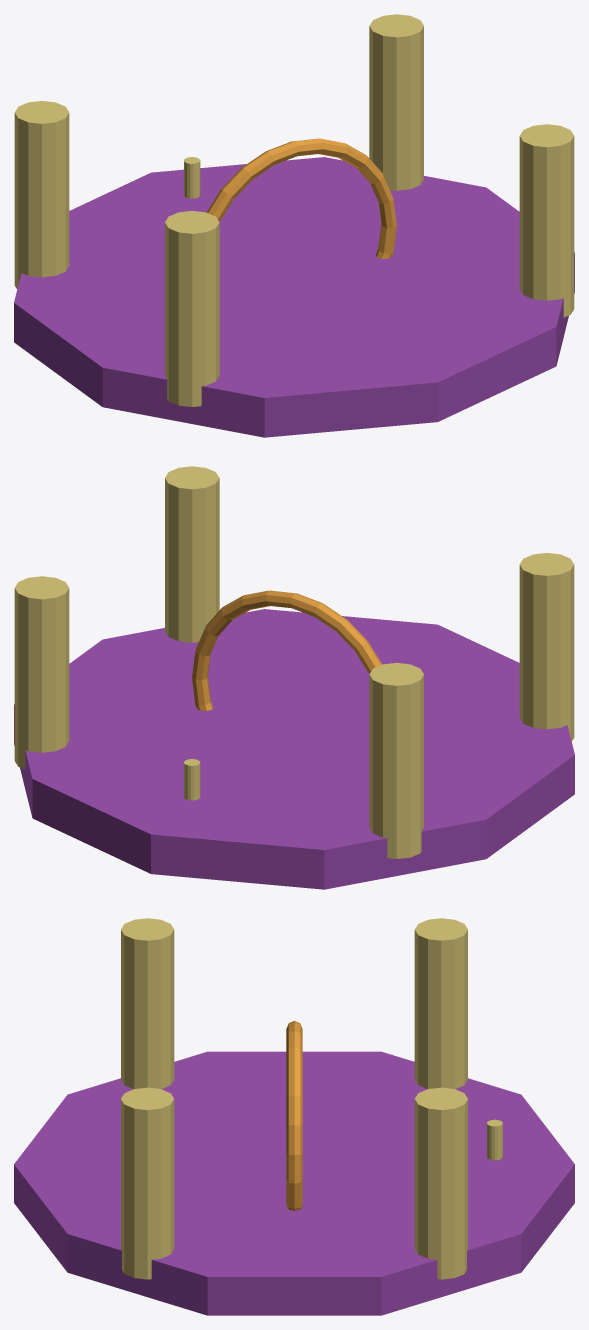
Rendered from abyss-chancel.glb.
3 views of the same model, one above another, from view 1: azimuth 30°, elevation 25°; view 2: azimuth 150°, elevation 25°; view 3: azimuth 270°, elevation 25° (orthographic). The views are drawn at different scales.
Parts seen in each view (by area): view 1: chancel-floor, chancel-pillar-2, chancel-pillar-3, chancel-pillar-0, chancel-pillar-1, chancel-vow-seal, chancel-votive-candle; view 2: chancel-floor, chancel-pillar-0, chancel-pillar-1, chancel-pillar-2, chancel-pillar-3, chancel-vow-seal, chancel-votive-candle; view 3: chancel-floor, chancel-pillar-1, chancel-pillar-3, chancel-pillar-0, chancel-pillar-2, chancel-vow-seal, chancel-votive-candle.
Part boxes in pixels (box(x1,y1,x2,y2)): chancel-floor: box(14, 157, 574, 437); chancel-pillar-2: box(165, 211, 219, 406); chancel-pillar-3: box(519, 124, 574, 317); chancel-pillar-0: box(14, 101, 69, 289); chancel-pillar-1: box(369, 14, 423, 190); chancel-vow-seal: box(207, 138, 396, 258); chancel-votive-candle: box(184, 157, 200, 198); chancel-floor: box(14, 609, 574, 889); chancel-pillar-0: box(369, 663, 423, 858); chancel-pillar-1: box(14, 576, 69, 769); chancel-pillar-2: box(519, 553, 574, 741); chancel-pillar-3: box(165, 466, 219, 642); chancel-vow-seal: box(192, 590, 381, 710); chancel-votive-candle: box(184, 759, 200, 800); chancel-floor: box(14, 1051, 574, 1315); chancel-pillar-1: box(414, 1087, 467, 1279); chancel-pillar-3: box(121, 1087, 174, 1279); chancel-pillar-0: box(414, 918, 467, 1088); chancel-pillar-2: box(121, 918, 174, 1088); chancel-vow-seal: box(286, 1021, 302, 1210); chancel-votive-candle: box(487, 1119, 502, 1160).
Size of the model in its own units: 2 by 0.93 by 2.1.
